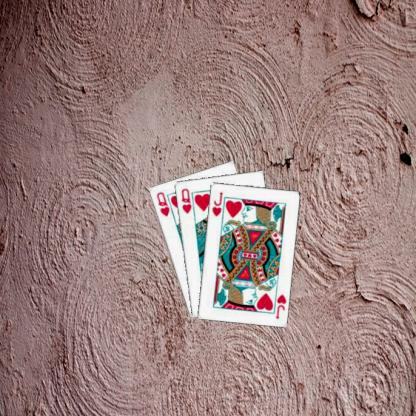JH: (209, 189, 224, 217), (273, 292, 287, 320)
QH: (154, 189, 170, 218), (178, 186, 192, 214)
